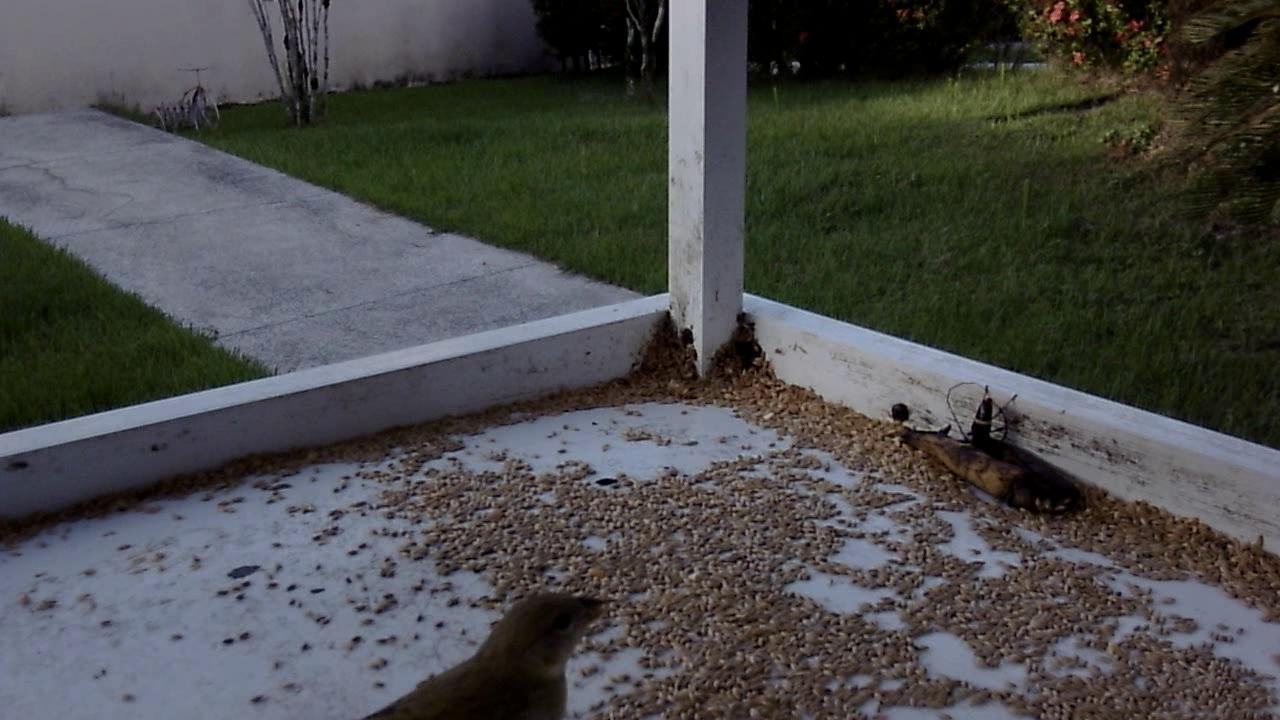canario_do_amazonas: (343, 586, 617, 713)
